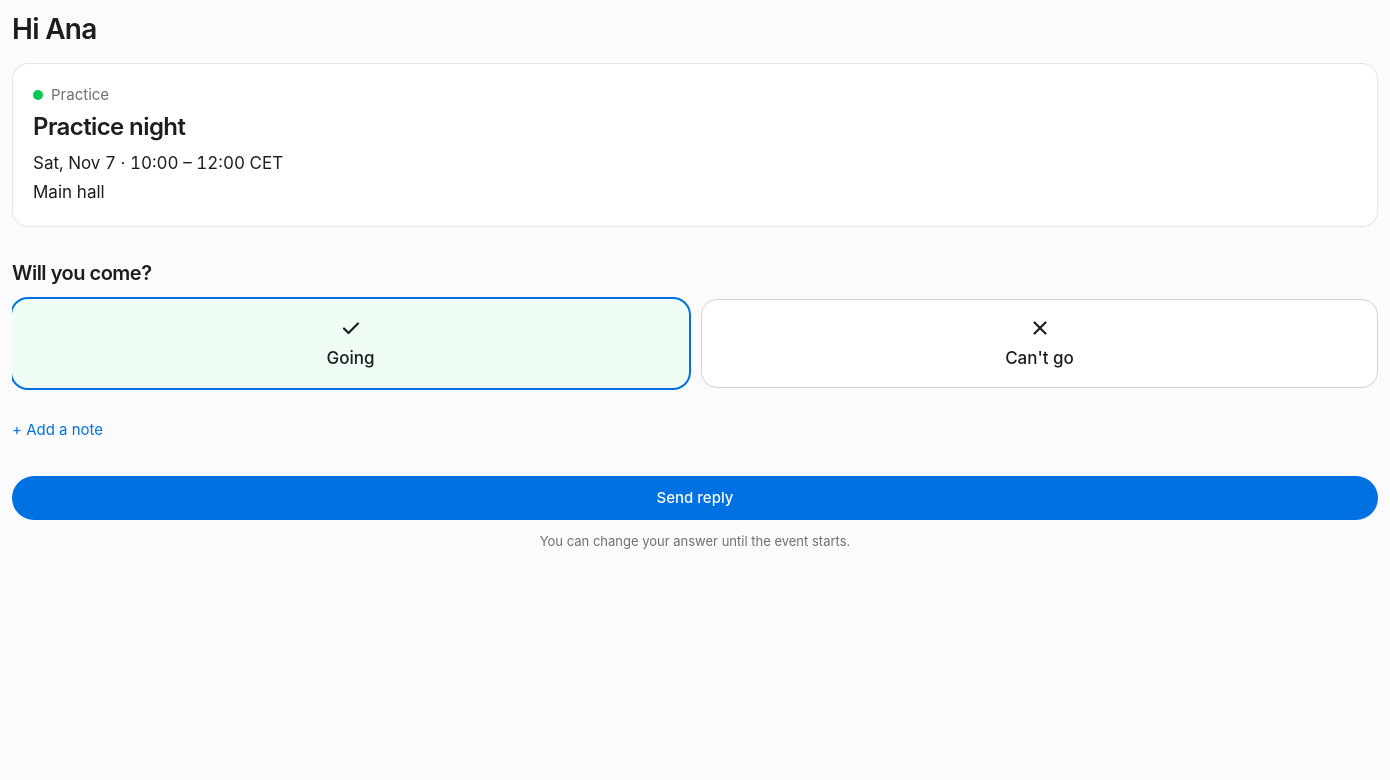
Test: MemberAttendanceView › the form › keeps the note collapsed behind "+ Add a note" until it is tapped
Click the button "+ Add a note".
click(58, 430)  # box [12,408,103,452]
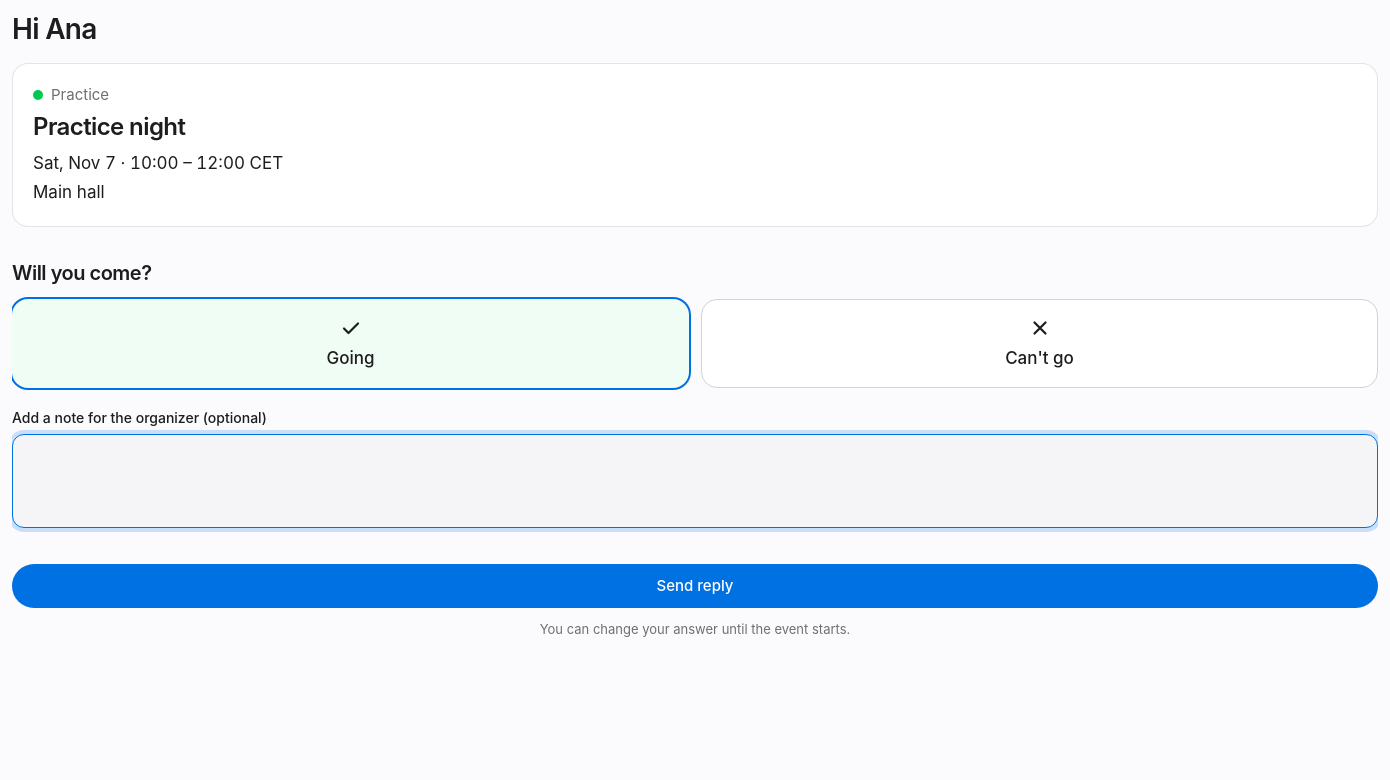
Now the text "Add a note for the organizer (optional)" is shown, box [12,409,267,426]
